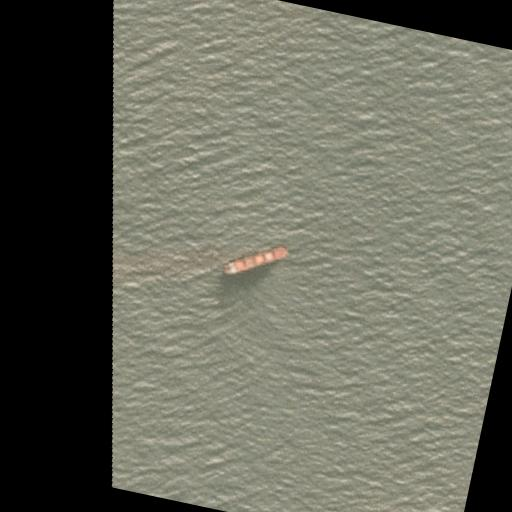ship: (224, 230, 288, 282)
